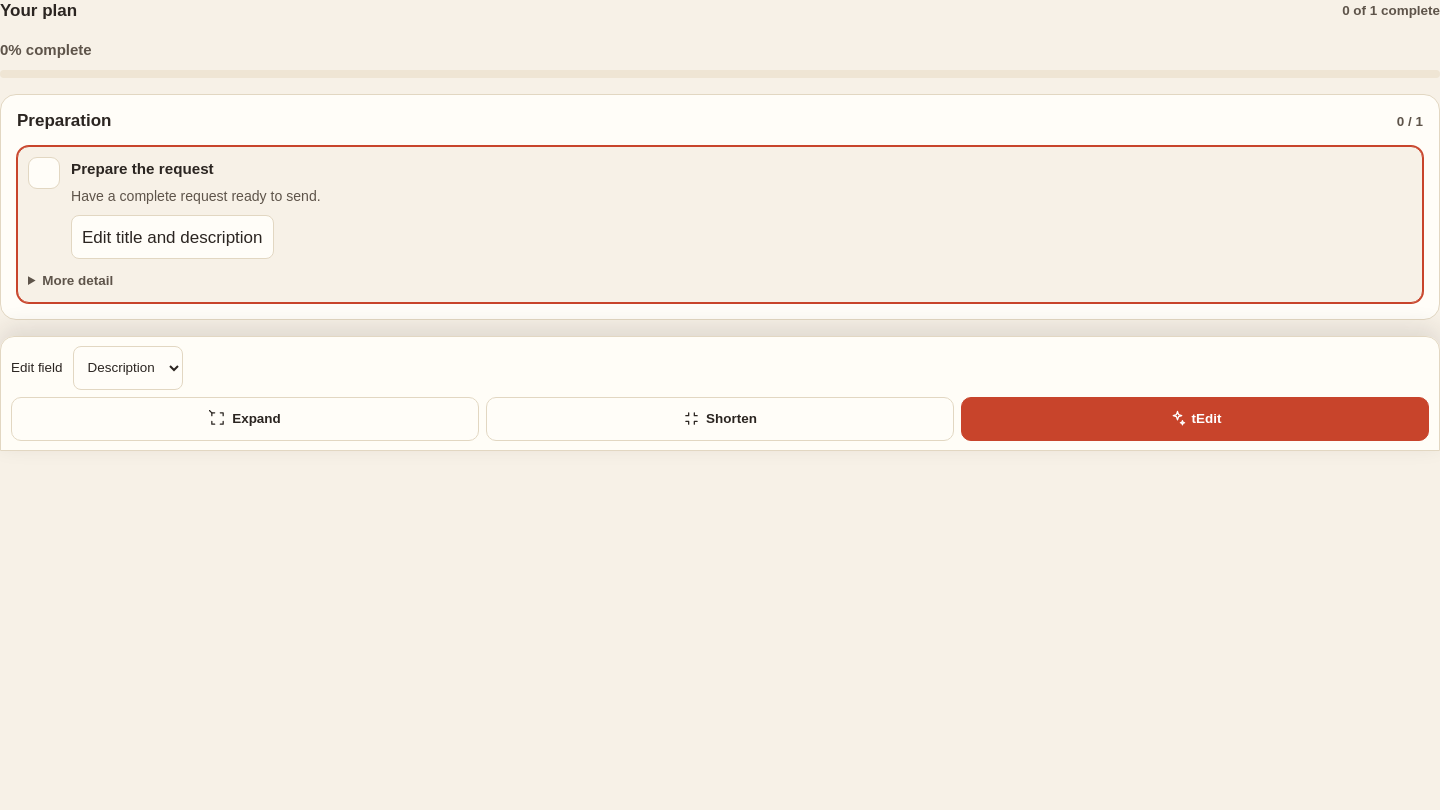
Test: ArtifactActionScreen › opens the completed suggestion as a modal without saving it
Click the button "Expand": [245, 419] box 11,397 -> 479,441
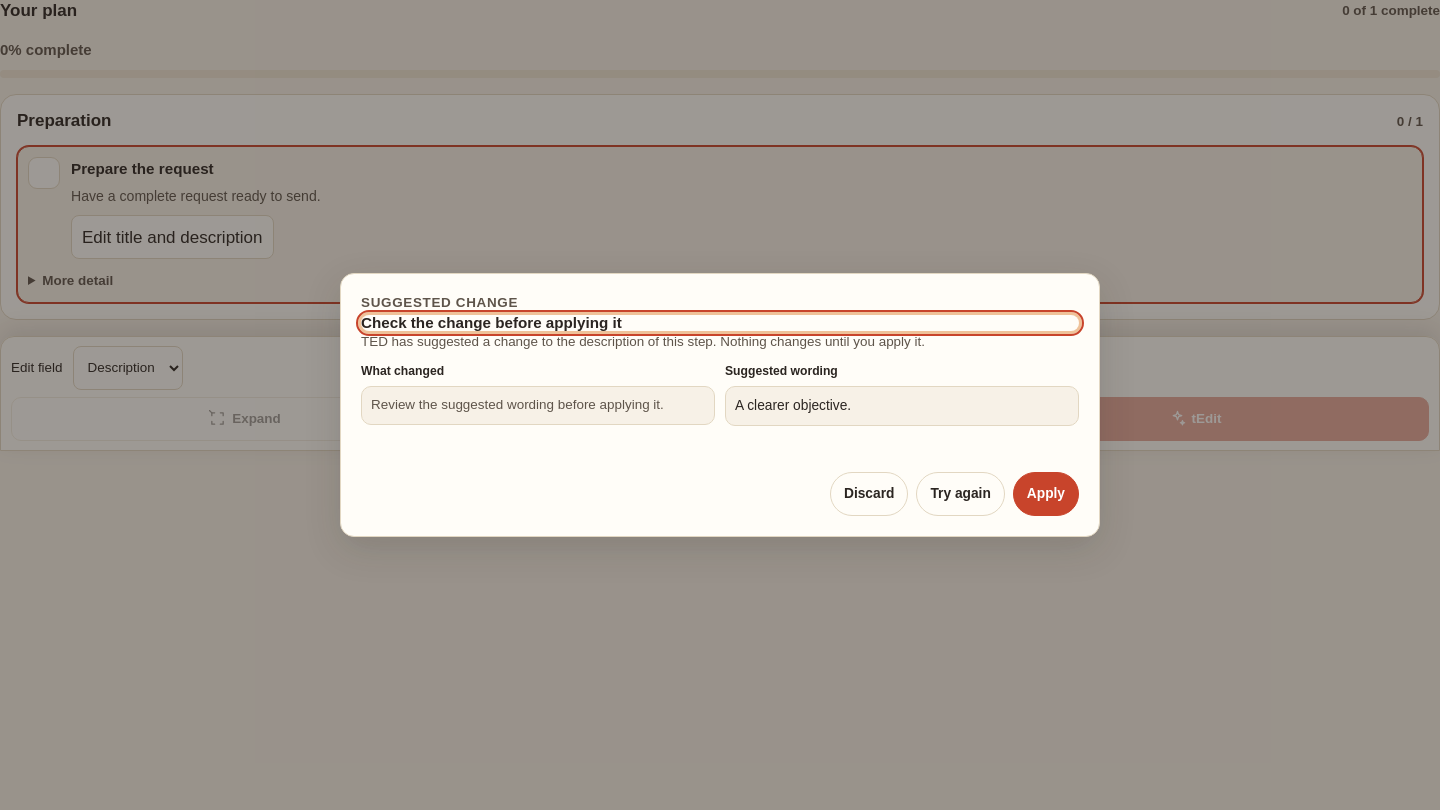
Expected: the text "A clearer objective." is shown, 725,386 -> 1079,426
